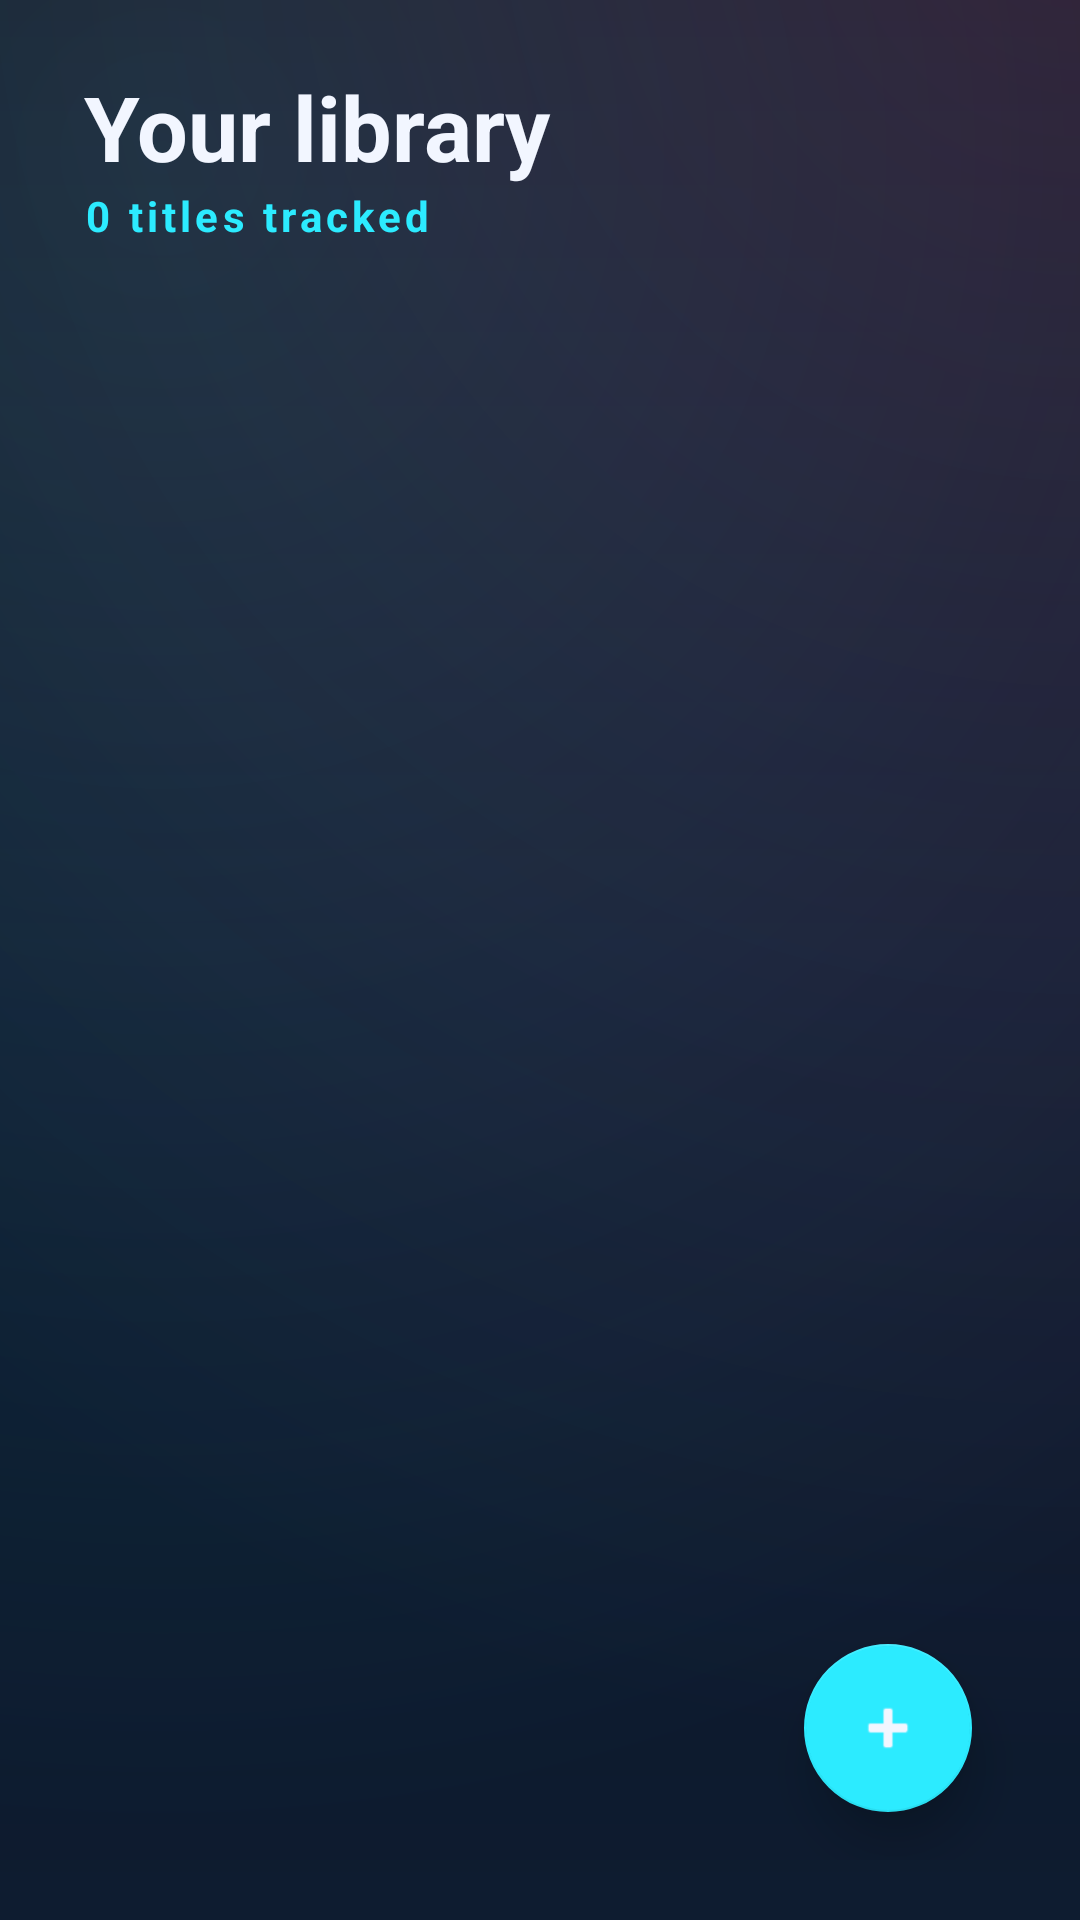

Icons on this 1080×1920 Android screen, each with the point to tap as (x,y):
Add game: (888,1728)
